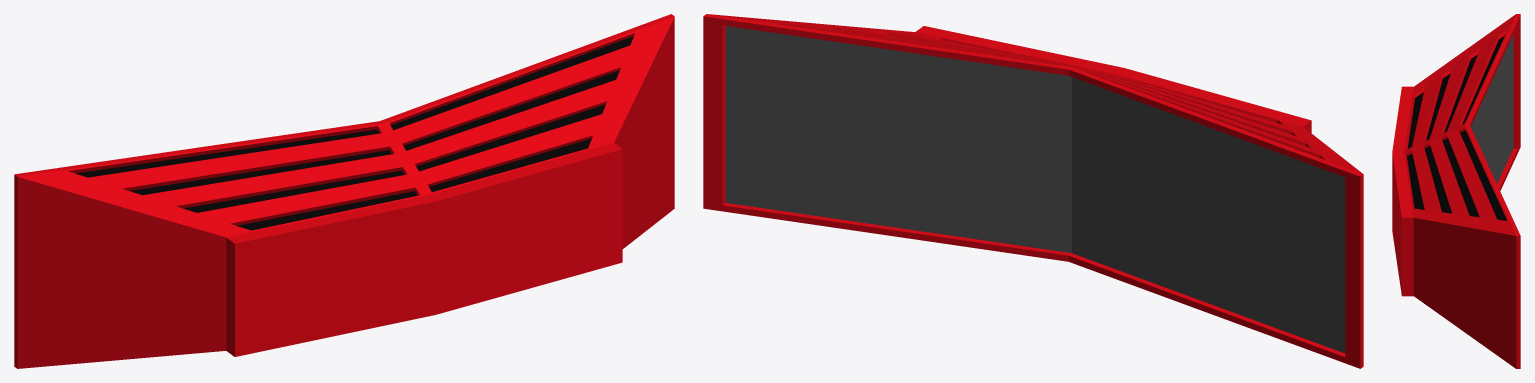
File: RedPawn.fbx
The picture shows the model from 3 angles, left to right: view 1: azimuth 30°, elevation 25°; view 2: azimuth 150°, elevation 25°; view 3: azimuth 270°, elevation 25°; orthographic projection. The views are drawn at different scales.
Visible parts, largest first — view 1: Cube.001; view 2: Cube.001; view 3: Cube.001.
Boxes of the visible parts, left/top/right/bottom form: Cube.001: left=14, top=14, right=674, bottom=368; Cube.001: left=703, top=14, right=1363, bottom=368; Cube.001: left=1392, top=14, right=1520, bottom=368.
Size of the model in its own units: 16665 by 4657 by 4077.
